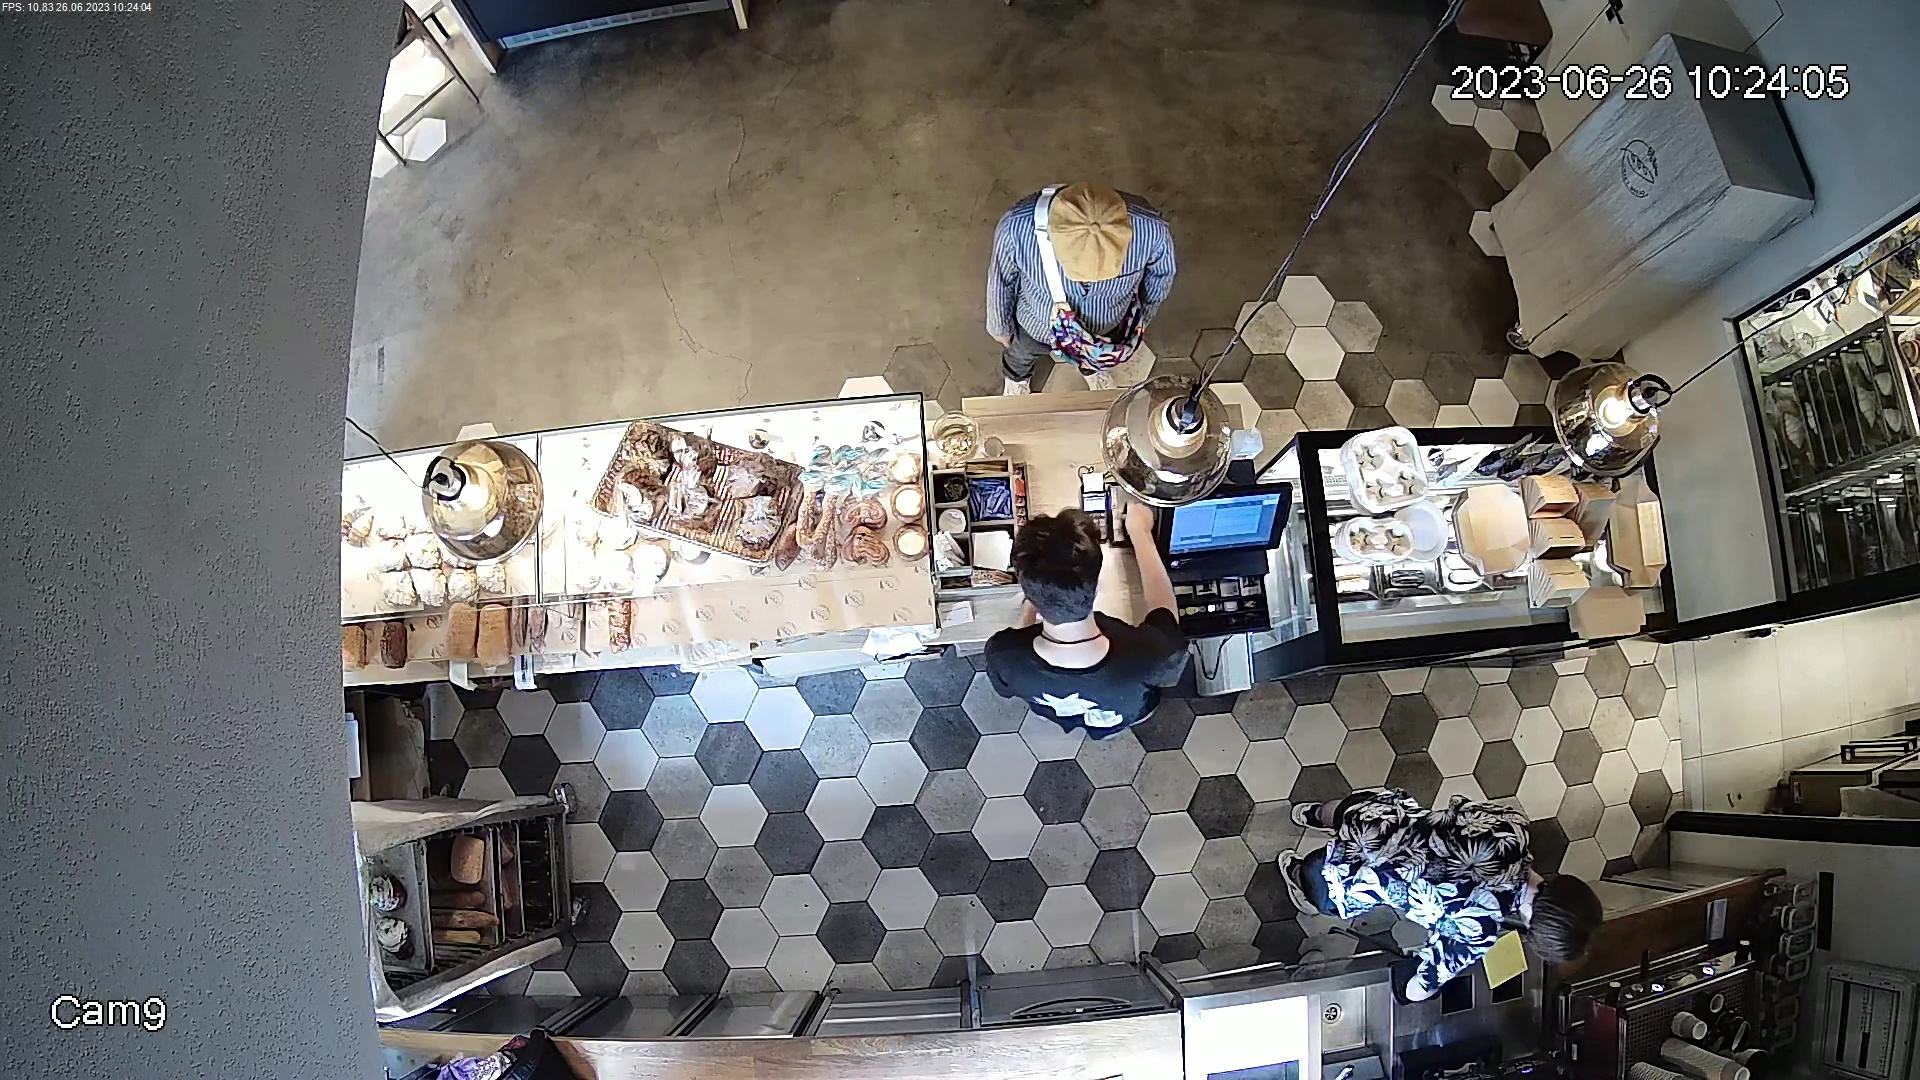openedcash: (1154, 478, 1299, 637)
person: (1277, 768, 1600, 980), (959, 169, 1182, 388)
